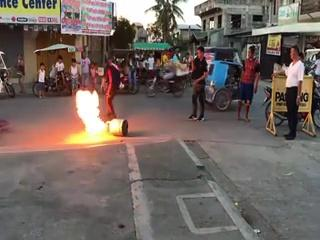Fire: (74, 85, 109, 137)
